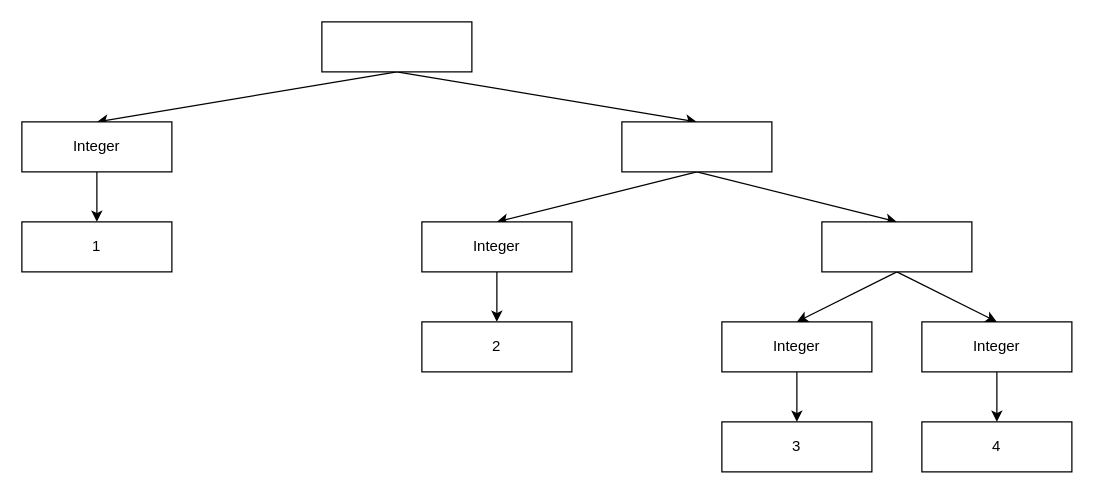
This 1094x494 diagram has some shape labels left out. Here are the shapes that lost their labels. From the top down, the centre of each, then its label:
pixel 396 46: Addition
pixel 696 146: Multiplication
pixel 896 246: Subtraction
